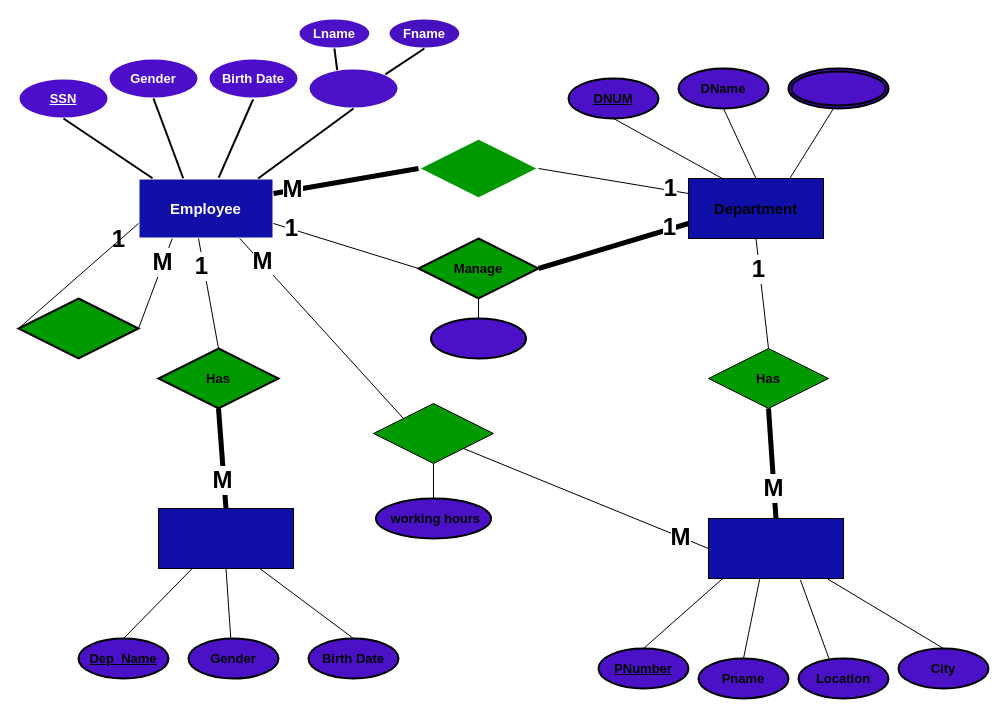
The diagram is 1006 pixels wide and 717 high, and some of its shapes have lost their labels. The box of each missing label's shape, as (x1, y1, x2, y2) in pixels:
Dependent: (158, 508, 294, 568)
Hiring Date: (430, 317, 526, 359)
Locations: (787, 67, 889, 109)
Name: (307, 67, 399, 109)
Projects: (708, 518, 844, 578)
supervise: (17, 297, 139, 359)
Work_On: (372, 402, 494, 464)
Works_For: (417, 137, 539, 199)
